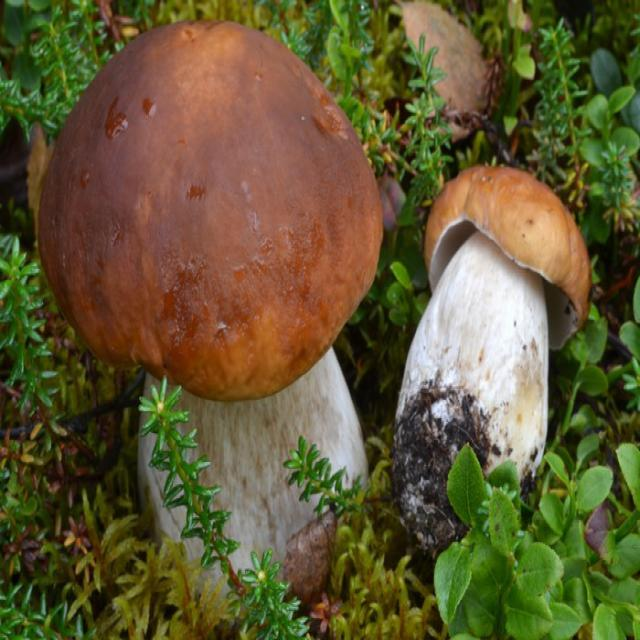Boletus: (37, 21, 385, 561), (403, 164, 591, 559)
